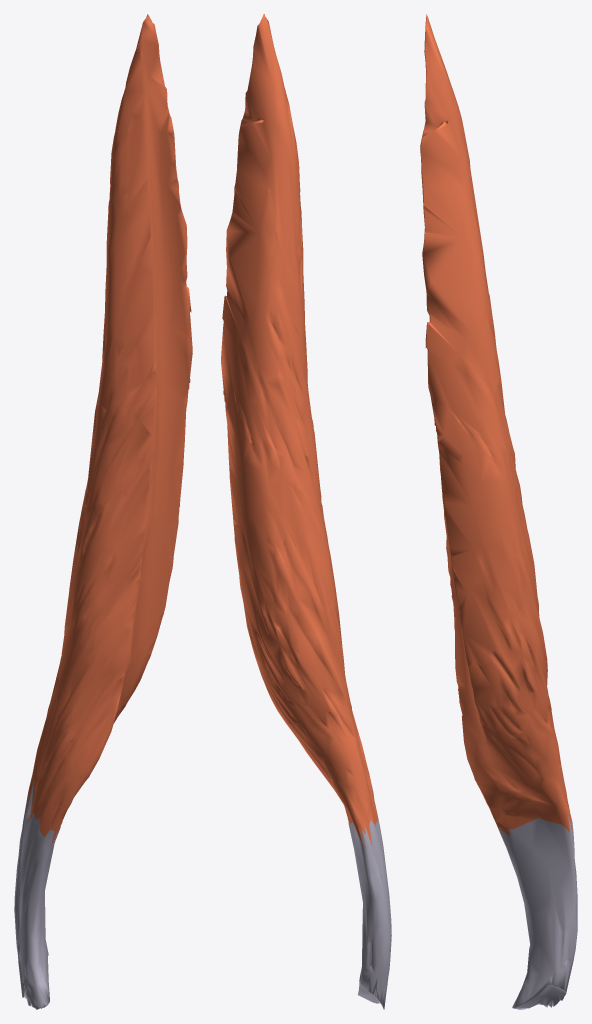
File: Biceps_femoris_short_head_right.glb
The picture shows the model from 3 angles, left to right: view 1: azimuth 30°, elevation 25°; view 2: azimuth 210°, elevation 25°; view 3: azimuth 270°, elevation 25°; orthographic projection. The views are drawn at different scales.
Visible parts, largest first — view 1: Short_head_of_biceps_femoris_muscle.r_Generated_Mesh_From_X3; view 2: Short_head_of_biceps_femoris_muscle.r_Generated_Mesh_From_X3; view 3: Short_head_of_biceps_femoris_muscle.r_Generated_Mesh_From_X3.
Boxes of the visible parts, box(x1,y1,x2,y2) form: Short_head_of_biceps_femoris_muscle.r_Generated_Mesh_From_X3: box(14, 14, 192, 1009); Short_head_of_biceps_femoris_muscle.r_Generated_Mesh_From_X3: box(221, 14, 391, 1009); Short_head_of_biceps_femoris_muscle.r_Generated_Mesh_From_X3: box(420, 14, 577, 1009).
Bounding box in the file's own units: 0.0368 × 0.3014 × 0.0418.
